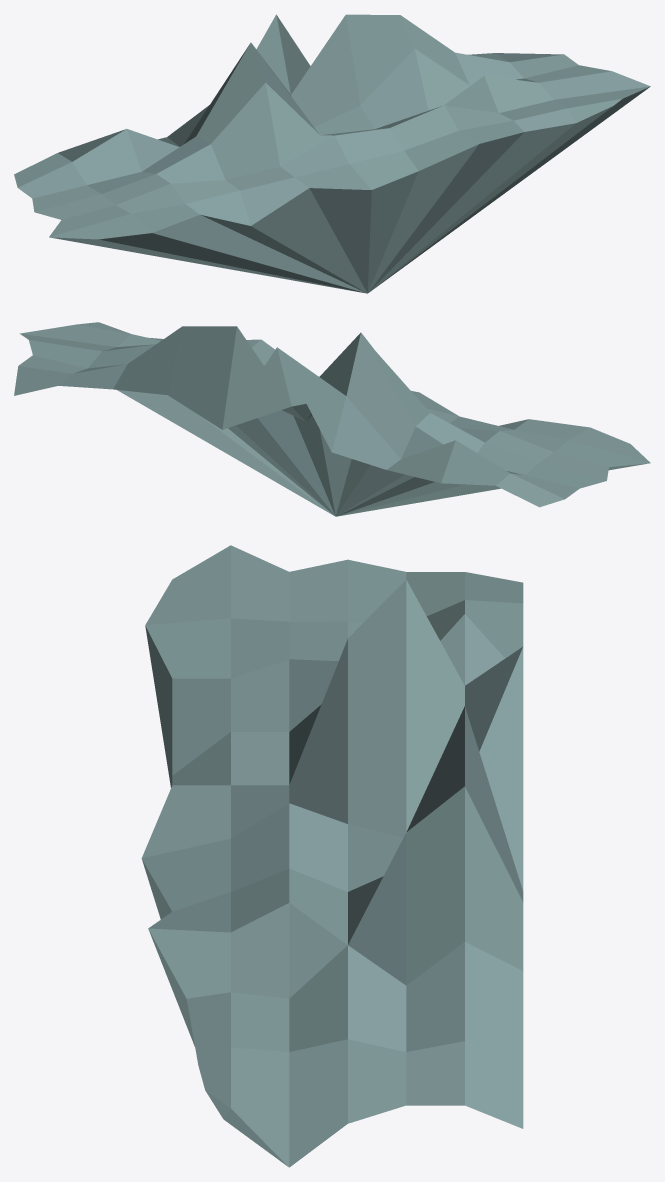
The model's file is landscape3.gltf.
3 renders of one model, top to bottom at view 1: azimuth 30°, elevation 25°; view 2: azimuth 150°, elevation 25°; view 3: azimuth 270°, elevation 25°, orthographic. The views are drawn at different scales.
Parts seen in each view (by area): view 1: Landscape; view 2: Landscape; view 3: Landscape.
Part boxes in pixels (bbox=[...]): Landscape: bbox=[14, 14, 650, 293]; Landscape: bbox=[14, 322, 650, 516]; Landscape: bbox=[141, 545, 523, 1167].
Size of the model in its own units: 677 by 247 by 181.
